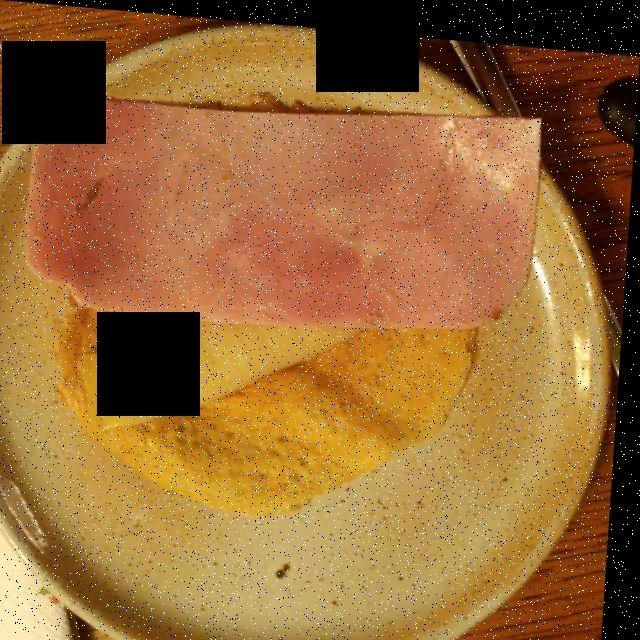cheese: (28, 311, 354, 429)
